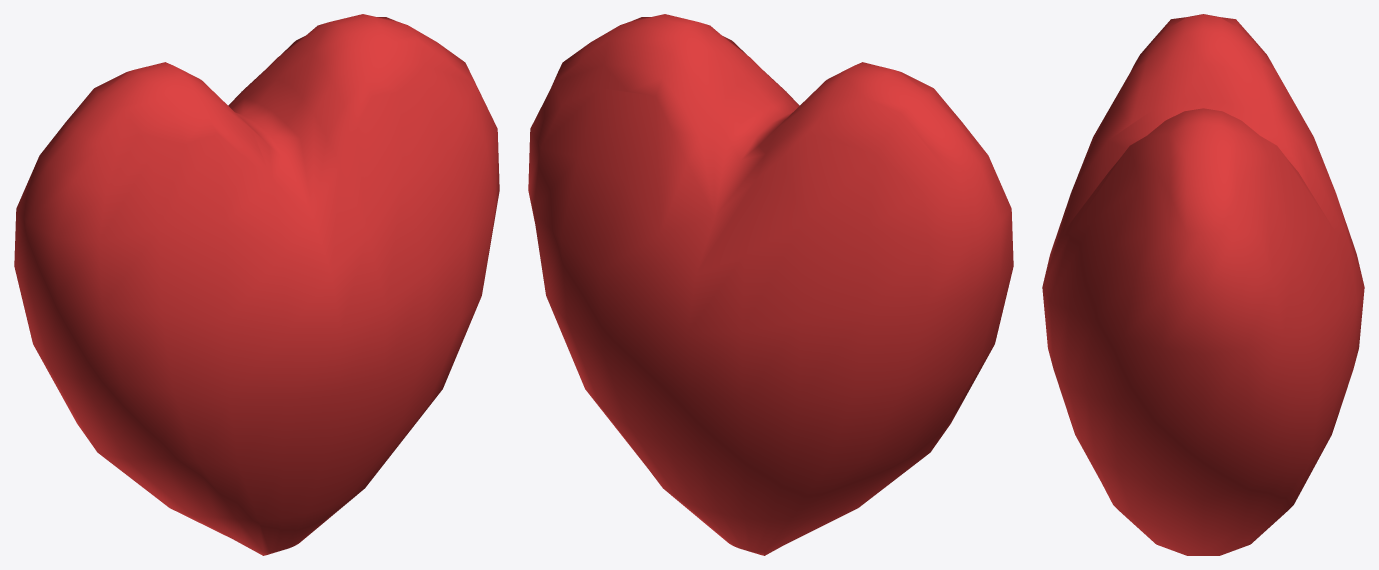
Rendered from Pin-Pong_Heart.fbx.
3 renders of one model, left to right at view 1: azimuth 30°, elevation 25°; view 2: azimuth 150°, elevation 25°; view 3: azimuth 270°, elevation 25°, orthographic. The views are drawn at different scales.
Parts seen in each view (by area): view 1: pCube1; view 2: pCube1; view 3: pCube1.
Part boxes in pixels (x1,y1,x2,y2): pCube1: (14, 14, 499, 555); pCube1: (528, 14, 1013, 555); pCube1: (1042, 14, 1364, 555).
Size of the model in its own units: 71.03 by 74.37 by 44.73.
